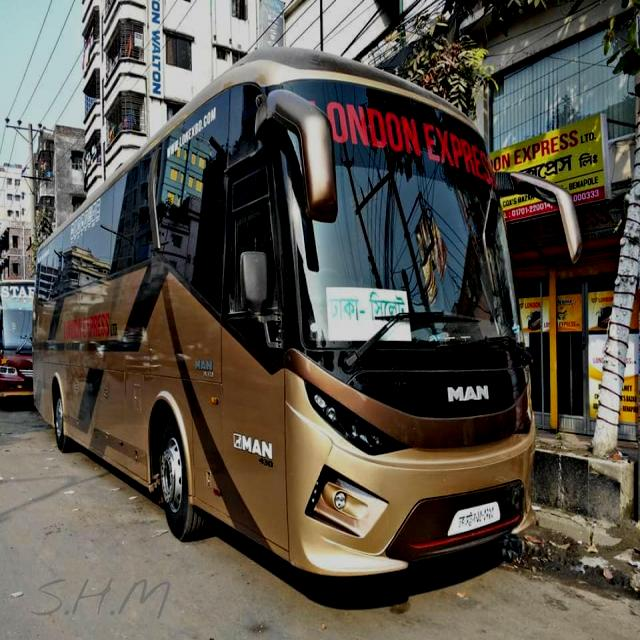bus: (32, 45, 587, 584)
